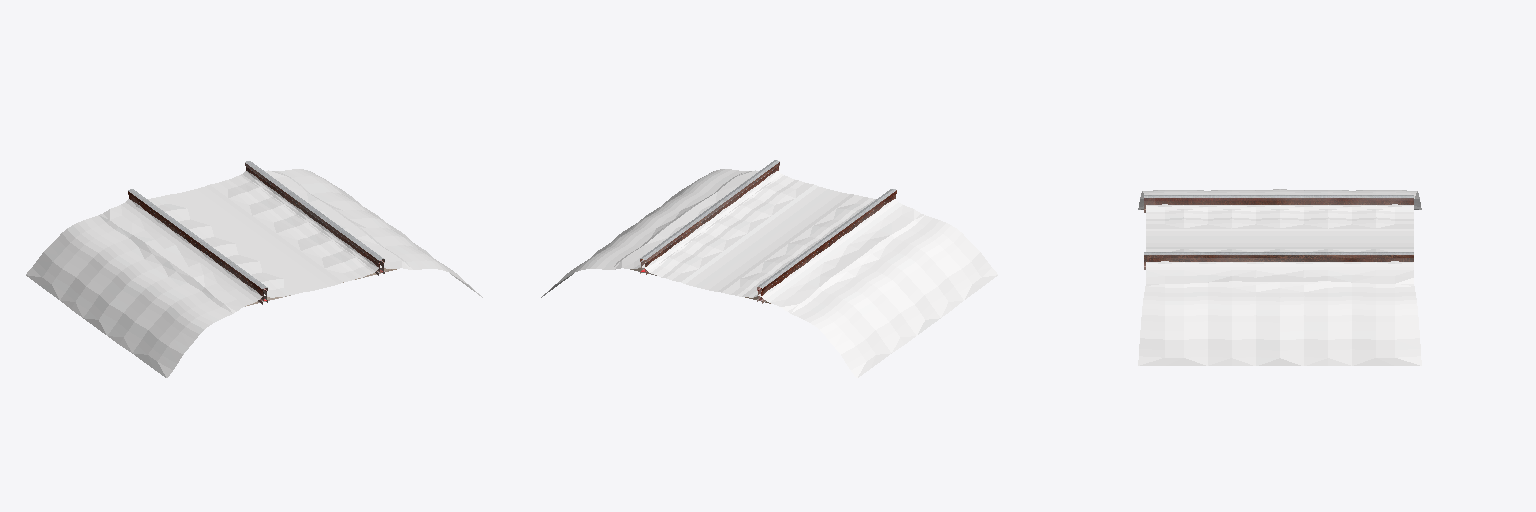
3 renders of one model, left to right at view 1: azimuth 30°, elevation 25°; view 2: azimuth 150°, elevation 25°; view 3: azimuth 270°, elevation 25°, orthographic.
Parts seen in each view (by area): view 1: Cube.002_Cube.001; view 2: Cube.002_Cube.001; view 3: Cube.002_Cube.001.
Boxes of the visible parts, <box> form: Cube.002_Cube.001: <box>26,161,482,377</box>; Cube.002_Cube.001: <box>541,160,997,377</box>; Cube.002_Cube.001: <box>1138,189,1421,365</box>.
Bounding box in the file's own units: 19.44 × 3.69 × 14.86.
Materials: 1 (1 with a texture image).